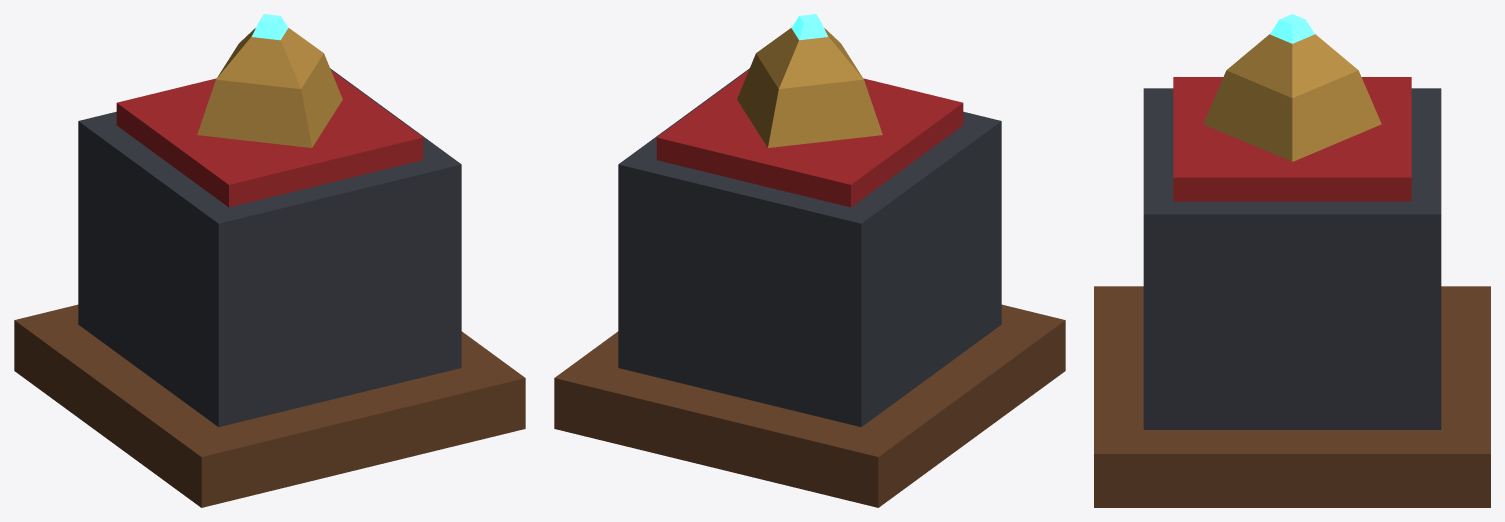
File: SM_Prop_WeaponModule_LQ.glb
3 renders of one model, left to right at view 1: azimuth 30°, elevation 25°; view 2: azimuth 150°, elevation 25°; view 3: azimuth 270°, elevation 25°, orthographic. The views are drawn at different scales.
Parts seen in each view (by area): view 1: SM_Prop_WeaponModule_LQ; view 2: SM_Prop_WeaponModule_LQ; view 3: SM_Prop_WeaponModule_LQ.
Part boxes in pixels (bbox=[...]): SM_Prop_WeaponModule_LQ: bbox=[14, 14, 525, 507]; SM_Prop_WeaponModule_LQ: bbox=[554, 14, 1065, 507]; SM_Prop_WeaponModule_LQ: bbox=[1094, 14, 1490, 507].
Size of the model in its own units: 1.2 by 1.35 by 1.2.
1 material, 1 textured.
